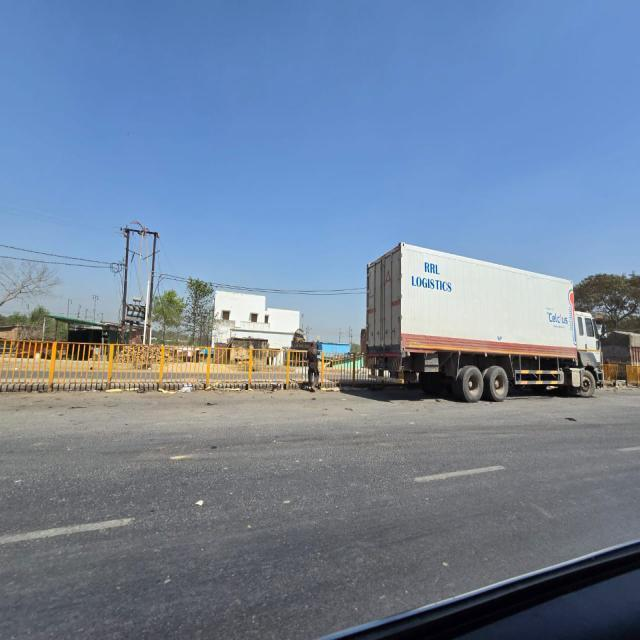covered: (366, 258, 599, 412)
